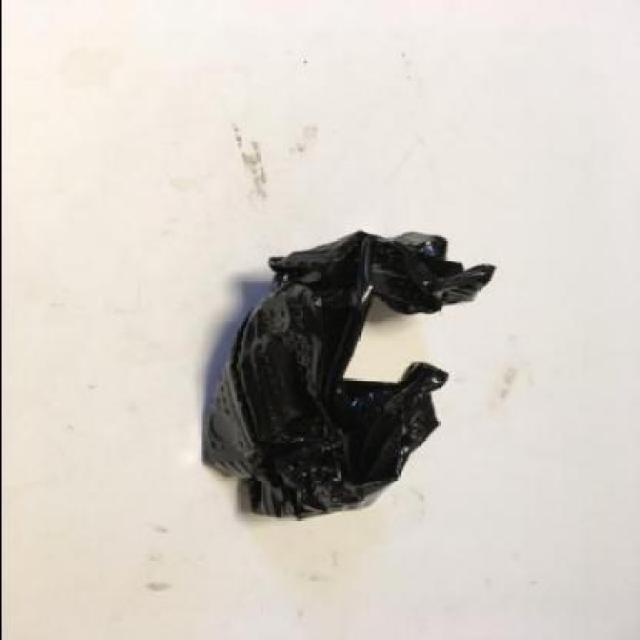PLASTIC: (203, 231, 499, 520)
